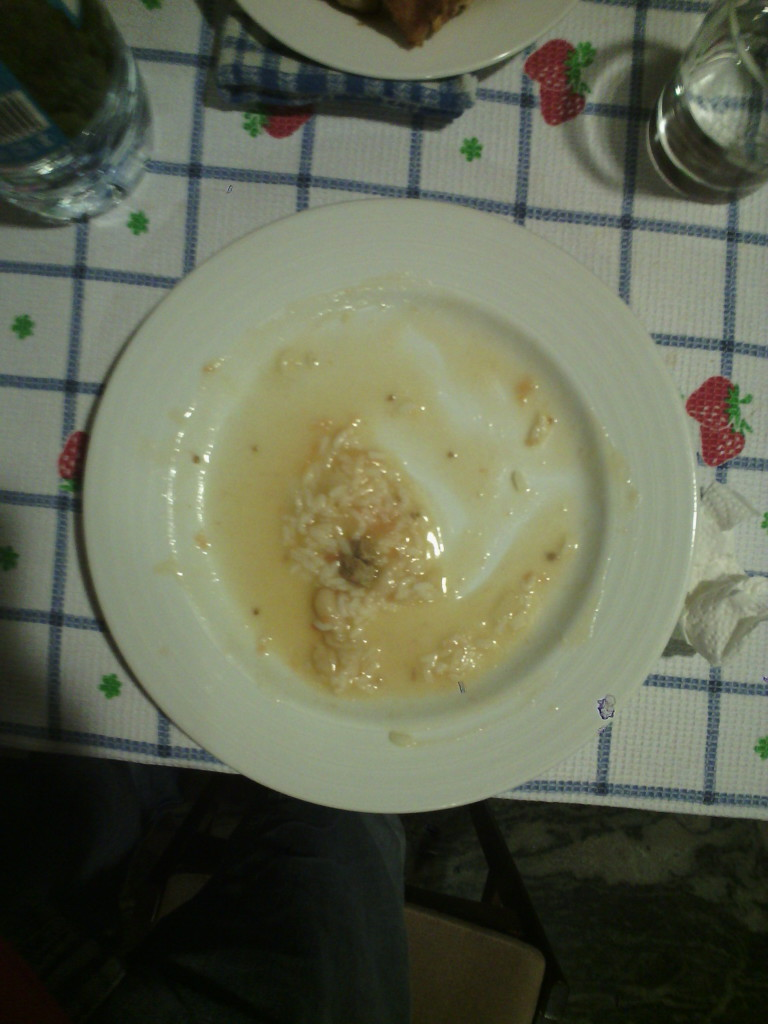21-40: (94, 196, 696, 815)
